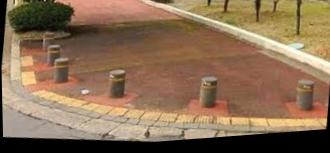Animal: (102, 65, 125, 97), (199, 78, 219, 112), (292, 83, 314, 113), (51, 56, 68, 85), (46, 44, 59, 60), (44, 27, 53, 44)
